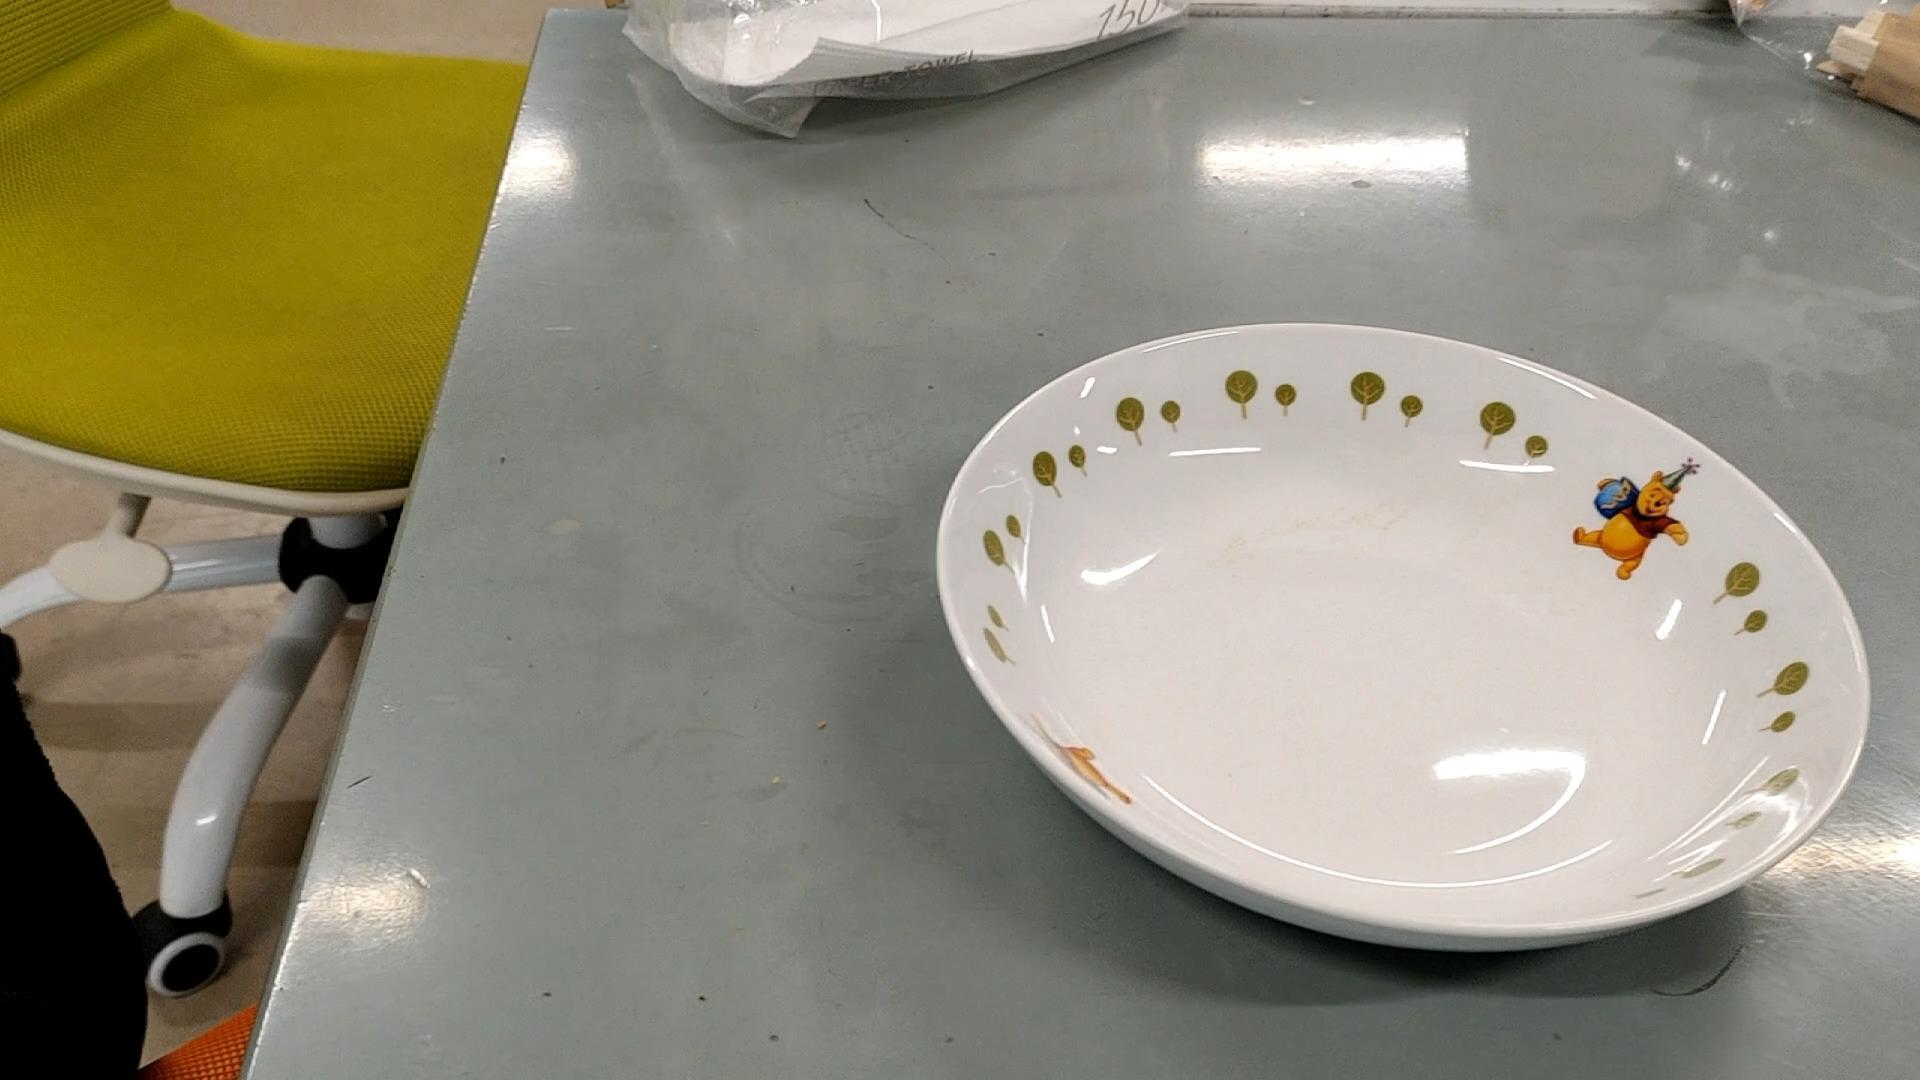plate: (935, 318, 1873, 957)
